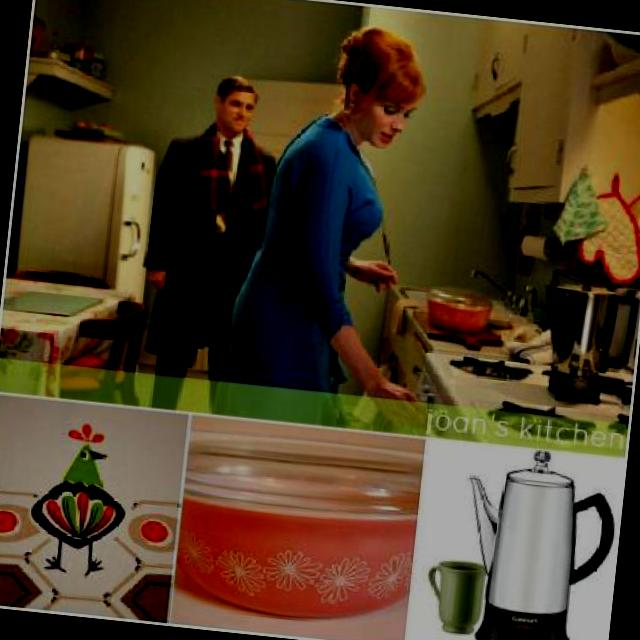Person: (196, 6, 472, 444), (125, 62, 283, 416)
